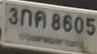letters: (35, 10, 46, 29), (21, 9, 32, 26), (9, 7, 19, 25), (86, 18, 96, 36), (63, 15, 73, 32), (74, 17, 84, 34), (52, 13, 61, 30)
province: (19, 33, 84, 49)
